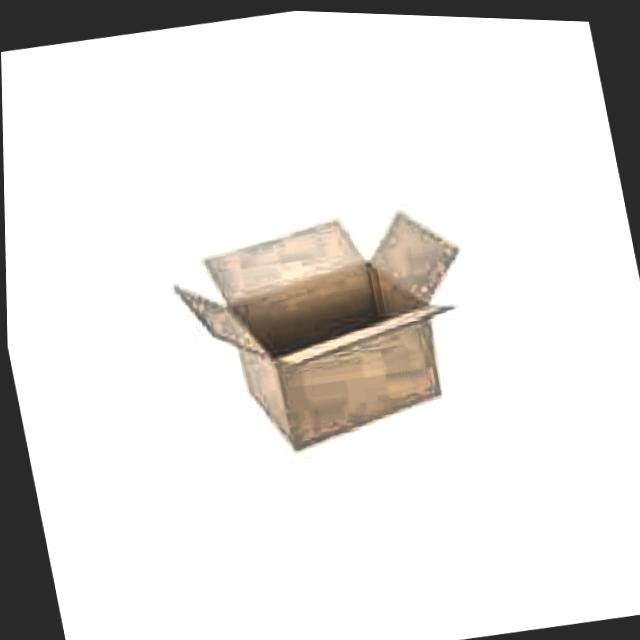Cardbox: (137, 156, 513, 493)
